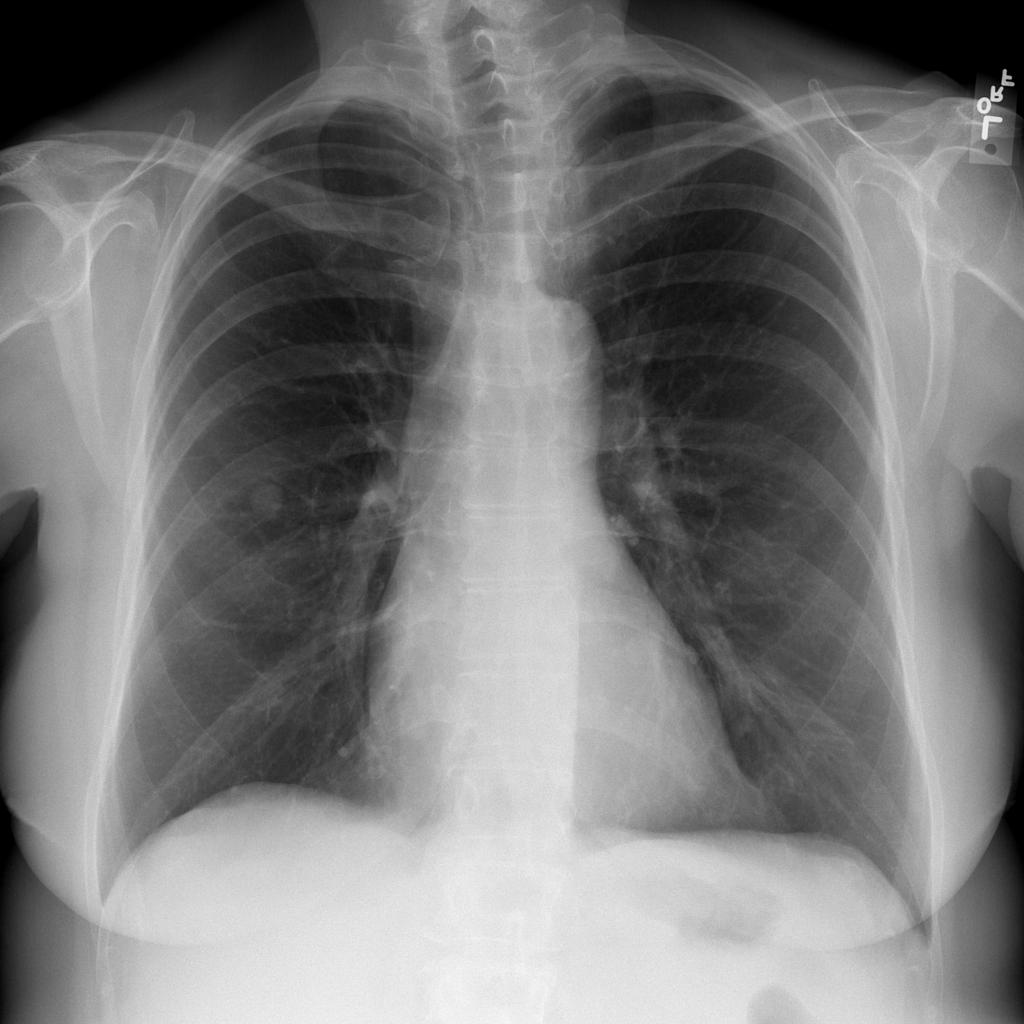nodule: (233, 465, 301, 537)
